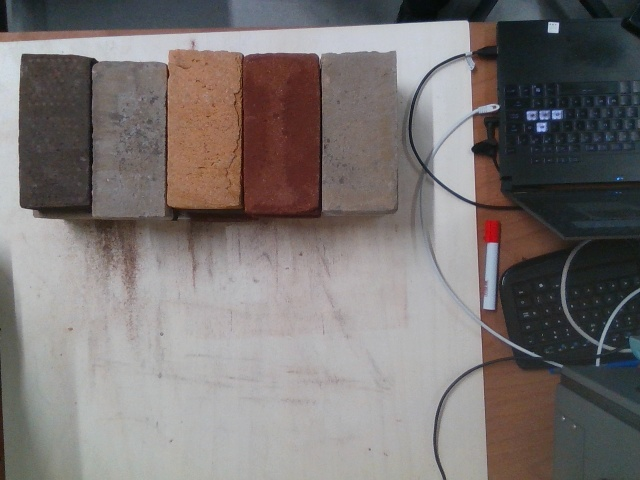brick: (320, 55, 399, 206), (166, 51, 242, 205), (243, 57, 318, 207), (90, 64, 163, 214), (17, 57, 88, 209)
